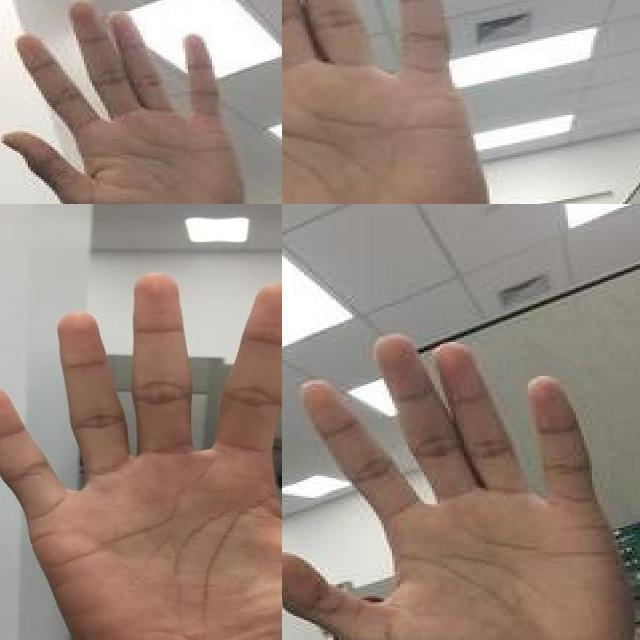hand: (282, 330, 640, 640), (0, 270, 282, 640), (1, 0, 247, 204), (282, 0, 498, 204)
